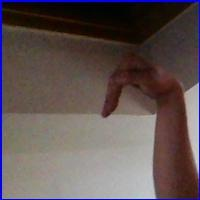A: (101, 41, 181, 126)
